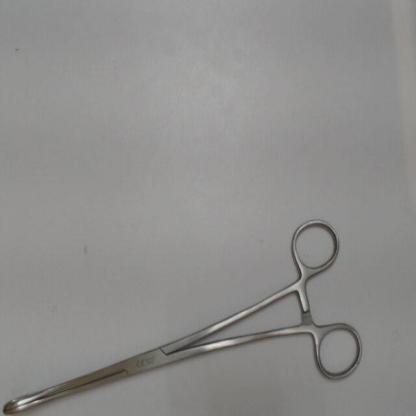Sponge Forceps: (1, 212, 370, 415)
